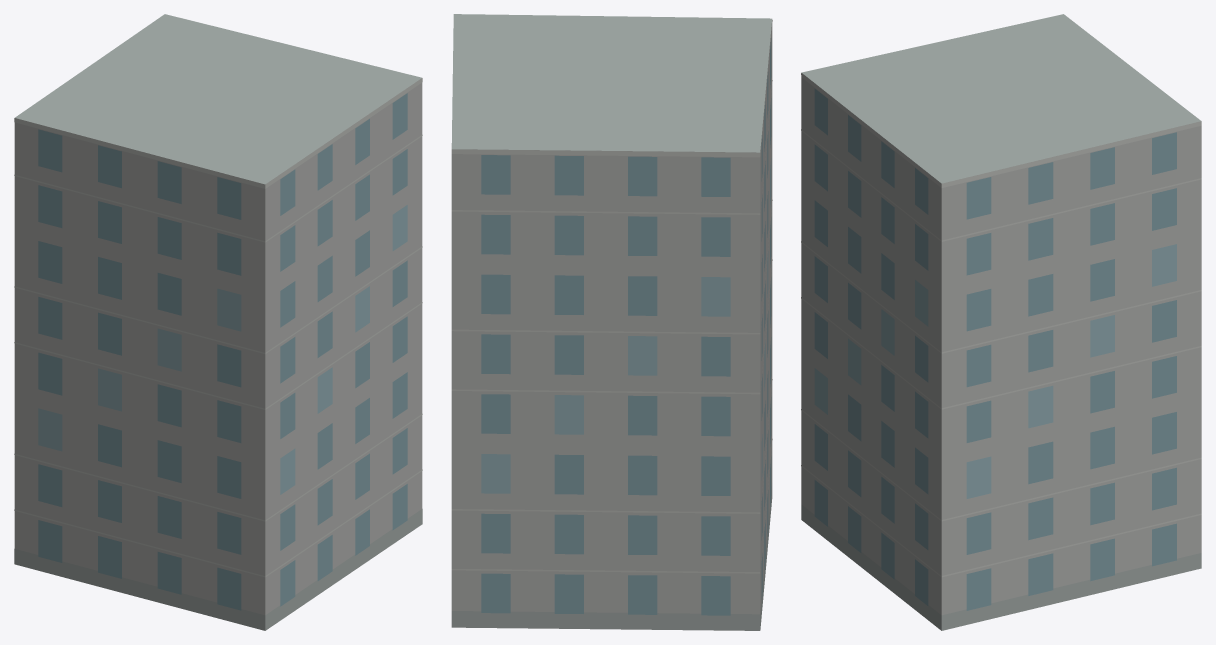
File: survey-upis-32796201.glb
The picture shows the model from 3 angles, left to right: view 1: azimuth 30°, elevation 25°; view 2: azimuth 150°, elevation 25°; view 3: azimuth 270°, elevation 25°; orthographic projection. The views are drawn at different scales.
Visible parts, largest first — view 1: survey-upis-32796201.tmp; view 2: survey-upis-32796201.tmp; view 3: survey-upis-32796201.tmp.
Boxes of the visible parts, x1,y1,x2,y2 form: survey-upis-32796201.tmp: (14, 14, 422, 630); survey-upis-32796201.tmp: (451, 14, 772, 630); survey-upis-32796201.tmp: (801, 14, 1201, 630).
Size of the model in its own units: 19.63 by 24.1 by 19.57.
